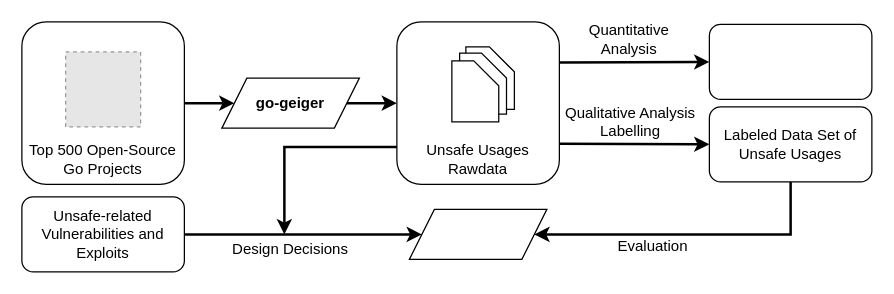
This 894x294 diagram has some shape labels left out. Grey dashed boxes stand in for pictures. Here are the shapes that lost their labels. From the top down, the box of each, then its label:
(708, 23, 872, 99): Unsafe Study Results
(408, 208, 547, 259): go-safer
